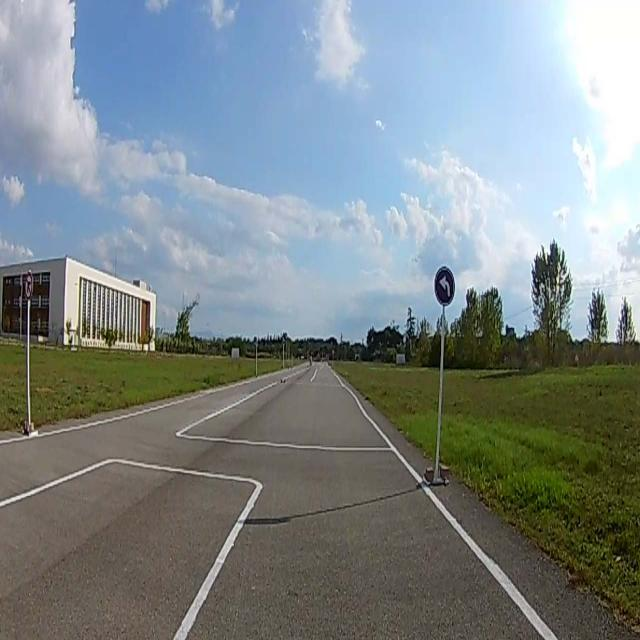sagadonulmez: (25, 274, 33, 300)
sol: (434, 266, 454, 302)
